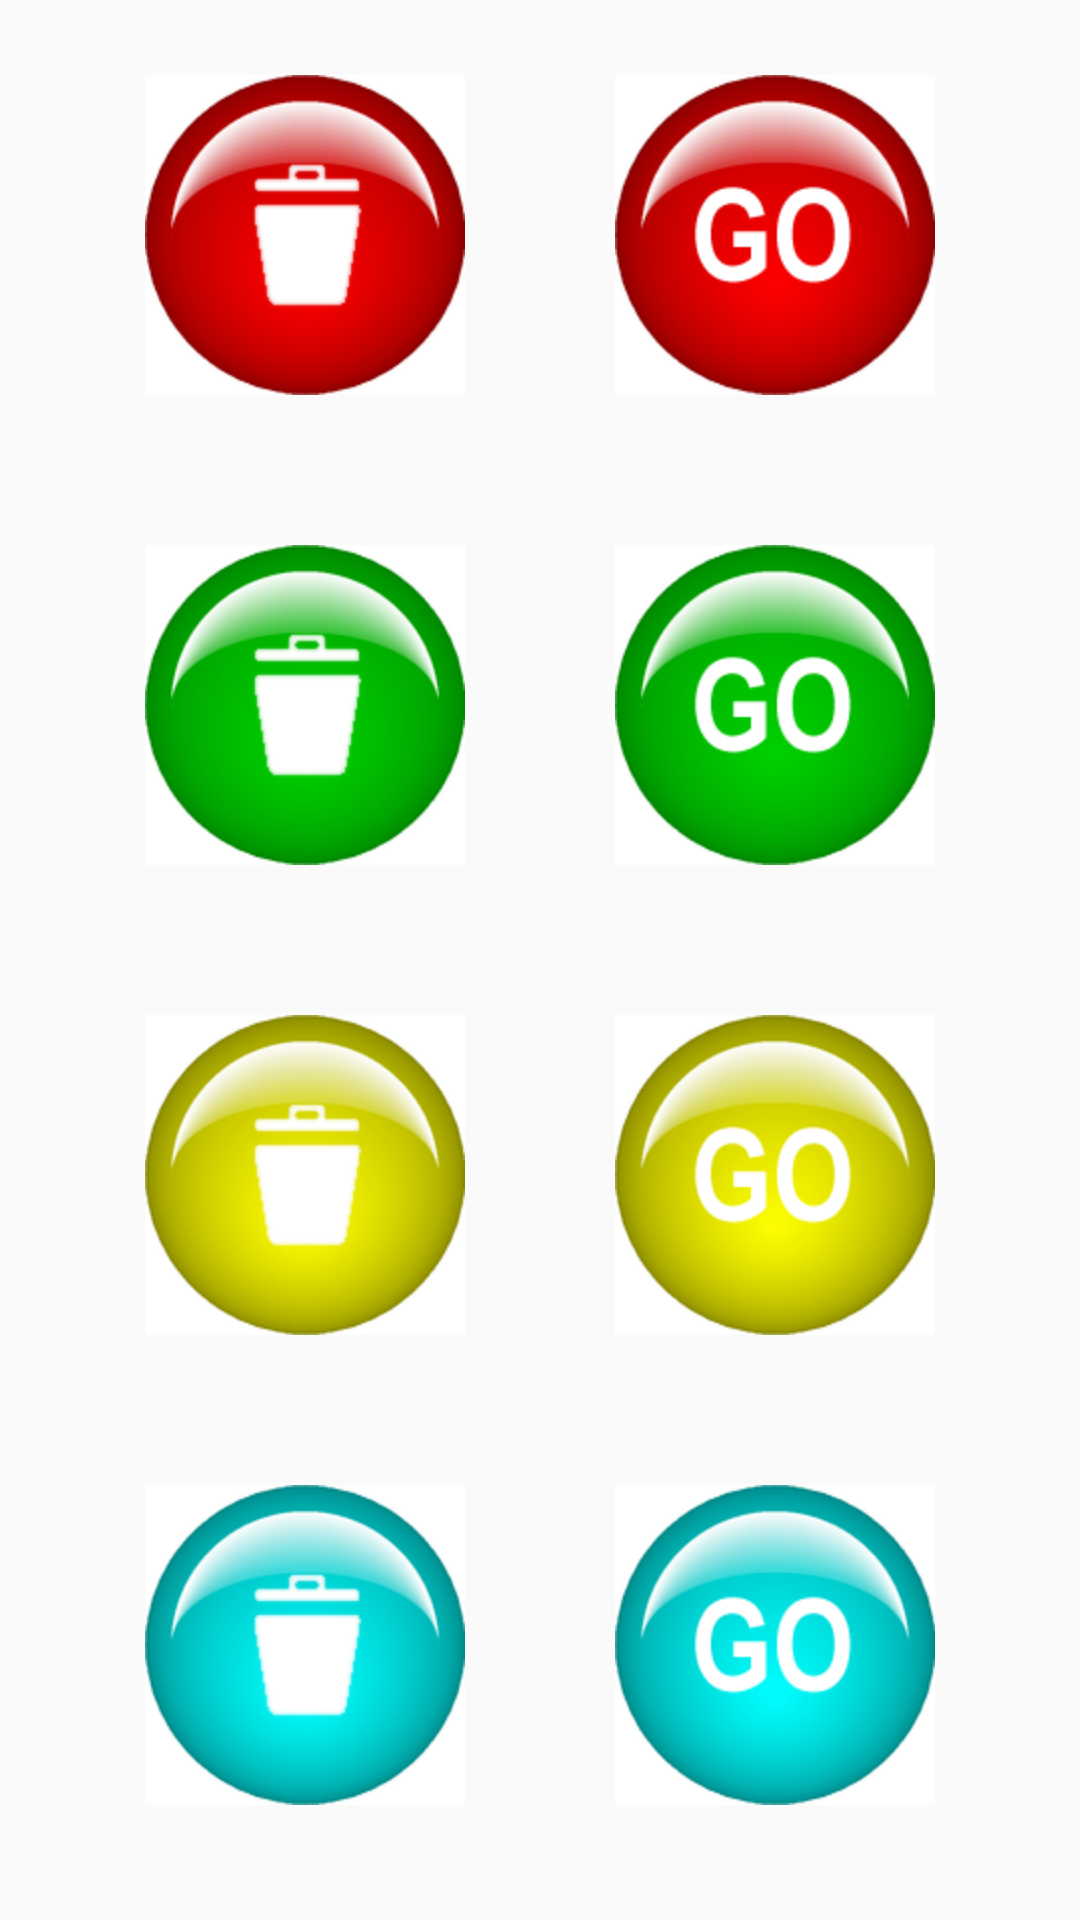

Icon click points for this 1080px x 1920px phone screenshot, format (x,y):
bin: (305,235), (305,705), (305,1175)
bin cyan: (305,1645)
